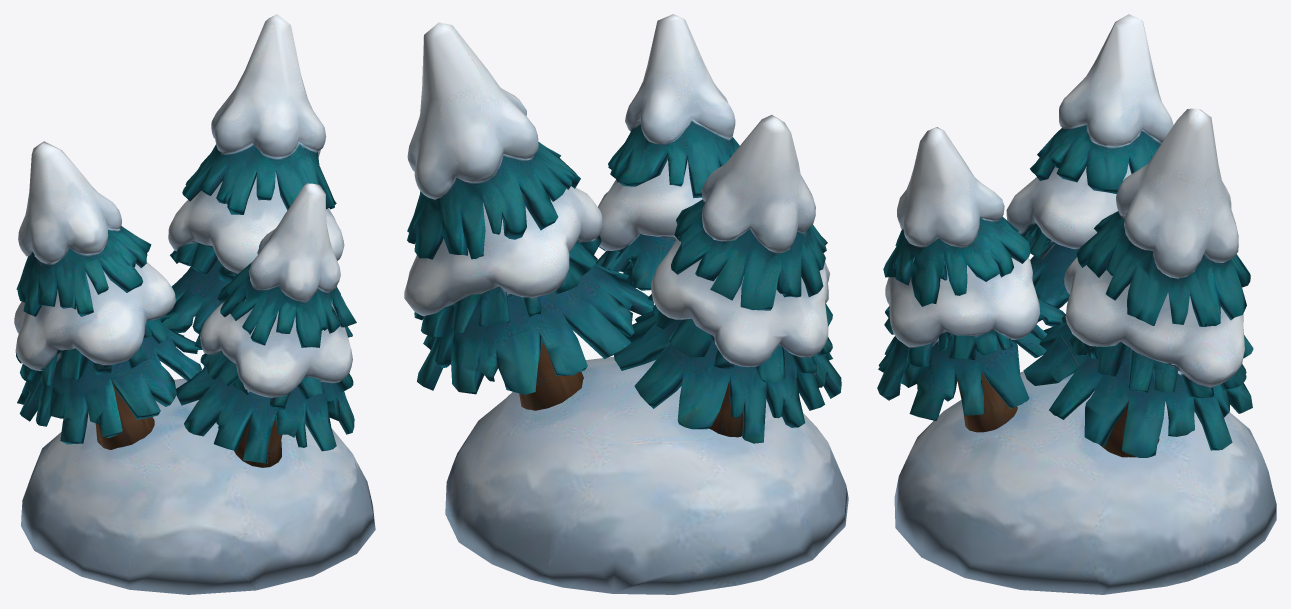
File: pine_cluster.glb
The picture shows the model from 3 angles, left to right: view 1: azimuth 30°, elevation 25°; view 2: azimuth 150°, elevation 25°; view 3: azimuth 270°, elevation 25°; orthographic projection. The views are drawn at different scales.
Parts seen in each view (by area): view 1: geometry_0; view 2: geometry_0; view 3: geometry_0.
Part boxes in pixels (x1,y1,x2,y2): geometry_0: [14, 14, 375, 594]; geometry_0: [404, 14, 848, 594]; geometry_0: [877, 14, 1276, 594].
Size of the model in its own units: 0.7612 by 0.9536 by 0.729.
Materials: 1 (1 with a texture image).
